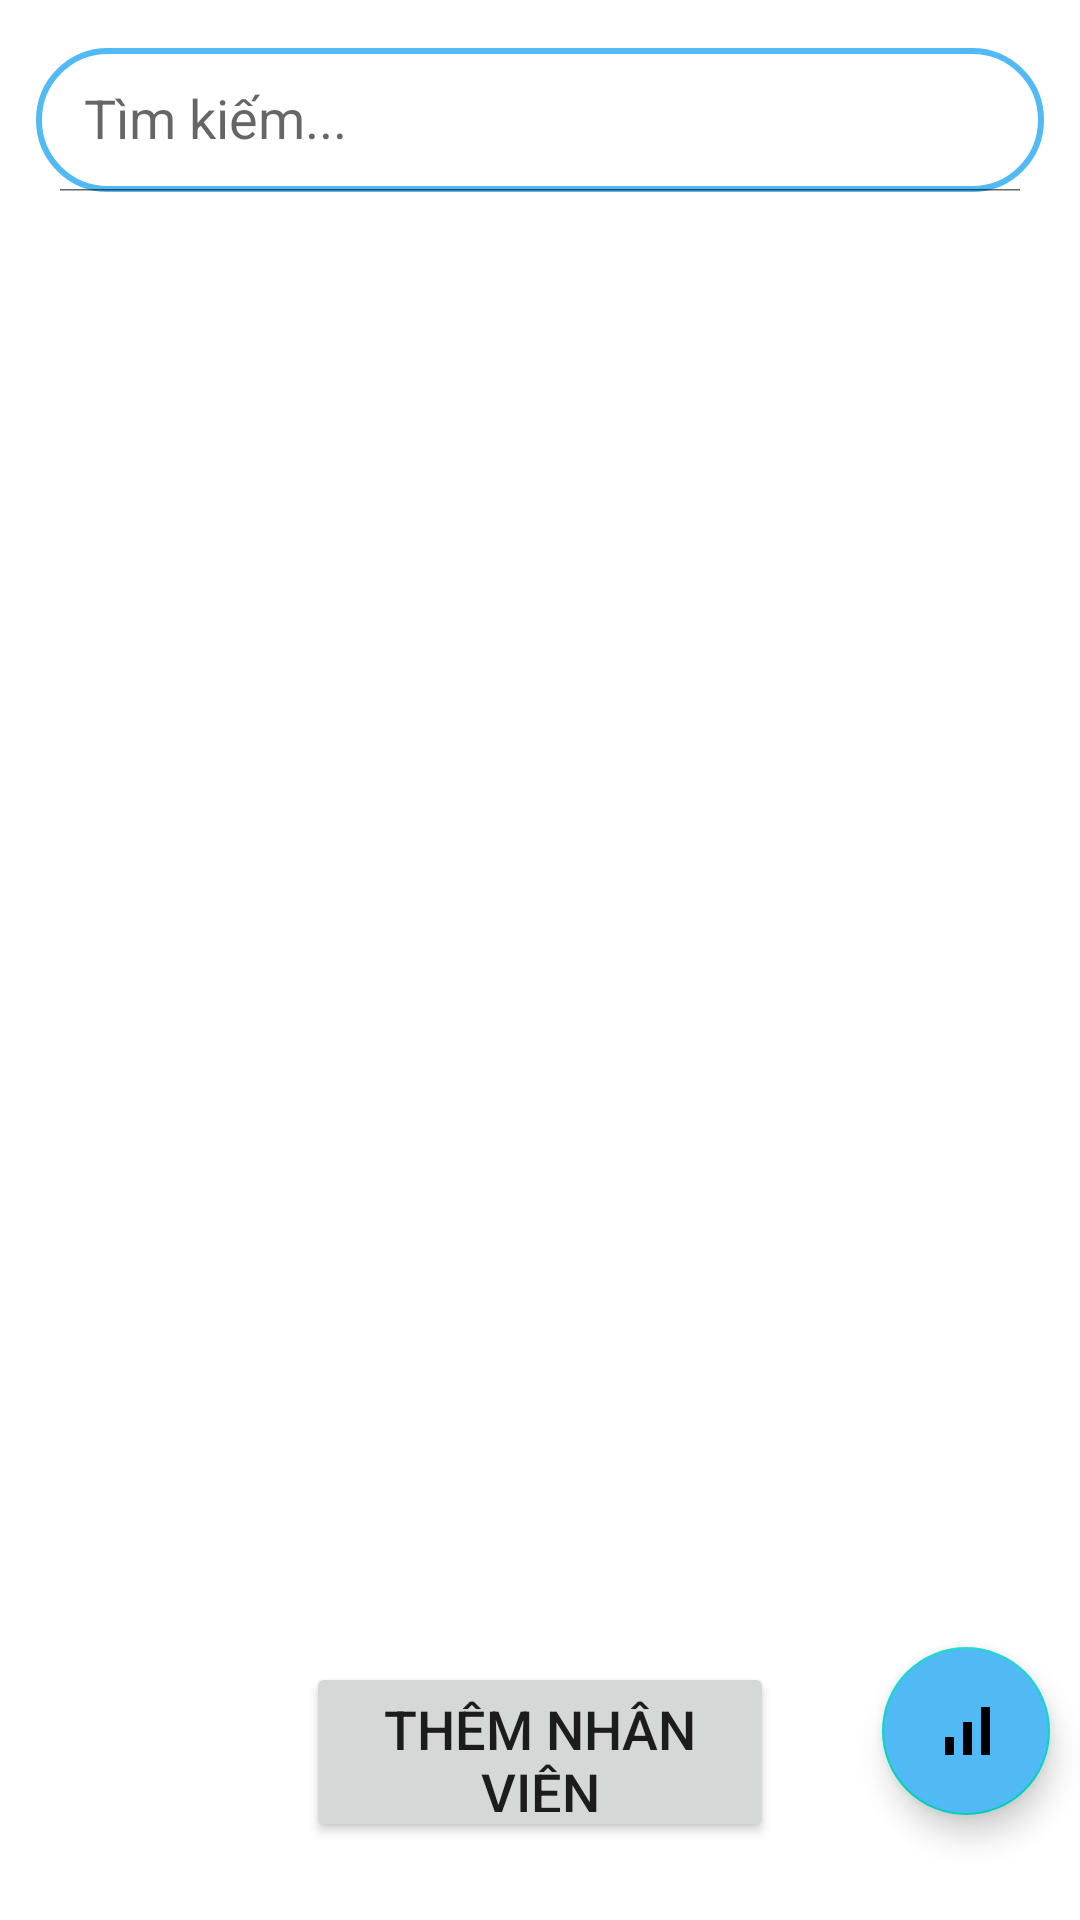

Icon bounding boxes for this 1080px x 1920px phone screenshot, format BBox(x1, y1, x2, y2):
signal cellular: BBox(882, 1647, 1050, 1815)
